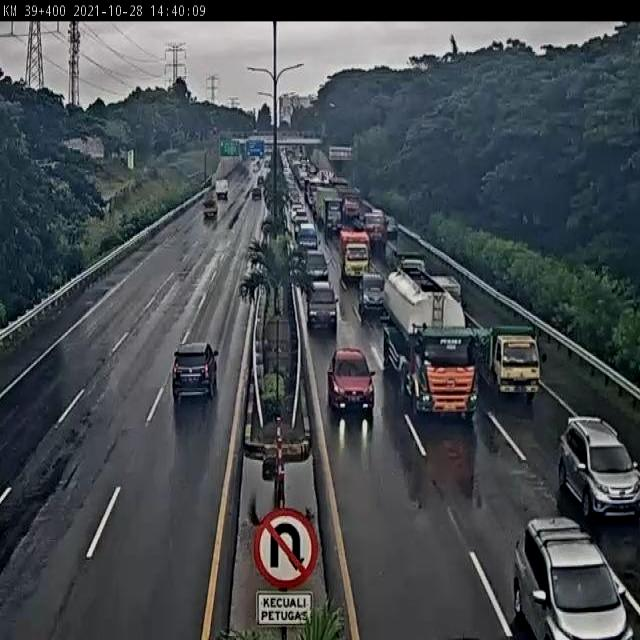Car: (557, 417, 640, 519), (319, 330, 389, 422), (172, 340, 219, 403), (306, 281, 337, 331), (356, 272, 386, 318), (303, 249, 329, 286), (297, 223, 318, 250), (203, 193, 218, 219)
Truck: (382, 267, 478, 420), (514, 516, 632, 638), (393, 404, 478, 509), (475, 323, 542, 401), (261, 313, 294, 390), (255, 438, 311, 479), (401, 426, 428, 506), (381, 318, 411, 379), (338, 229, 370, 281), (258, 371, 288, 426), (362, 210, 387, 251), (430, 275, 462, 307), (339, 192, 364, 230), (357, 200, 377, 237), (324, 197, 343, 235), (288, 250, 308, 286), (246, 259, 268, 291), (282, 198, 298, 238), (384, 233, 400, 269), (400, 257, 426, 277), (254, 340, 264, 386), (244, 443, 268, 462), (307, 182, 322, 212), (88, 282, 113, 300), (99, 190, 119, 212), (394, 250, 420, 266), (284, 227, 296, 260), (277, 127, 307, 140), (256, 158, 270, 185), (286, 191, 300, 218), (262, 455, 277, 480), (293, 163, 307, 189), (332, 177, 349, 198), (291, 202, 306, 225), (279, 148, 291, 176), (261, 215, 274, 237), (215, 179, 228, 200), (221, 141, 239, 156), (37, 160, 60, 171), (270, 150, 282, 171), (284, 175, 294, 200), (314, 208, 324, 231), (274, 142, 290, 156), (239, 280, 250, 300), (300, 159, 312, 176), (262, 201, 270, 226), (307, 163, 319, 179), (251, 183, 262, 200), (177, 268, 190, 282), (296, 146, 306, 163), (264, 142, 274, 156), (238, 140, 246, 157), (128, 149, 134, 171), (209, 125, 219, 138), (202, 176, 212, 188), (248, 183, 256, 198), (322, 121, 328, 141), (286, 147, 294, 161), (249, 152, 259, 163), (219, 137, 229, 148), (252, 160, 260, 172), (352, 187, 362, 196), (257, 154, 264, 166), (327, 170, 334, 182), (320, 171, 327, 182), (251, 129, 261, 136), (334, 295, 340, 306), (541, 352, 547, 362)
